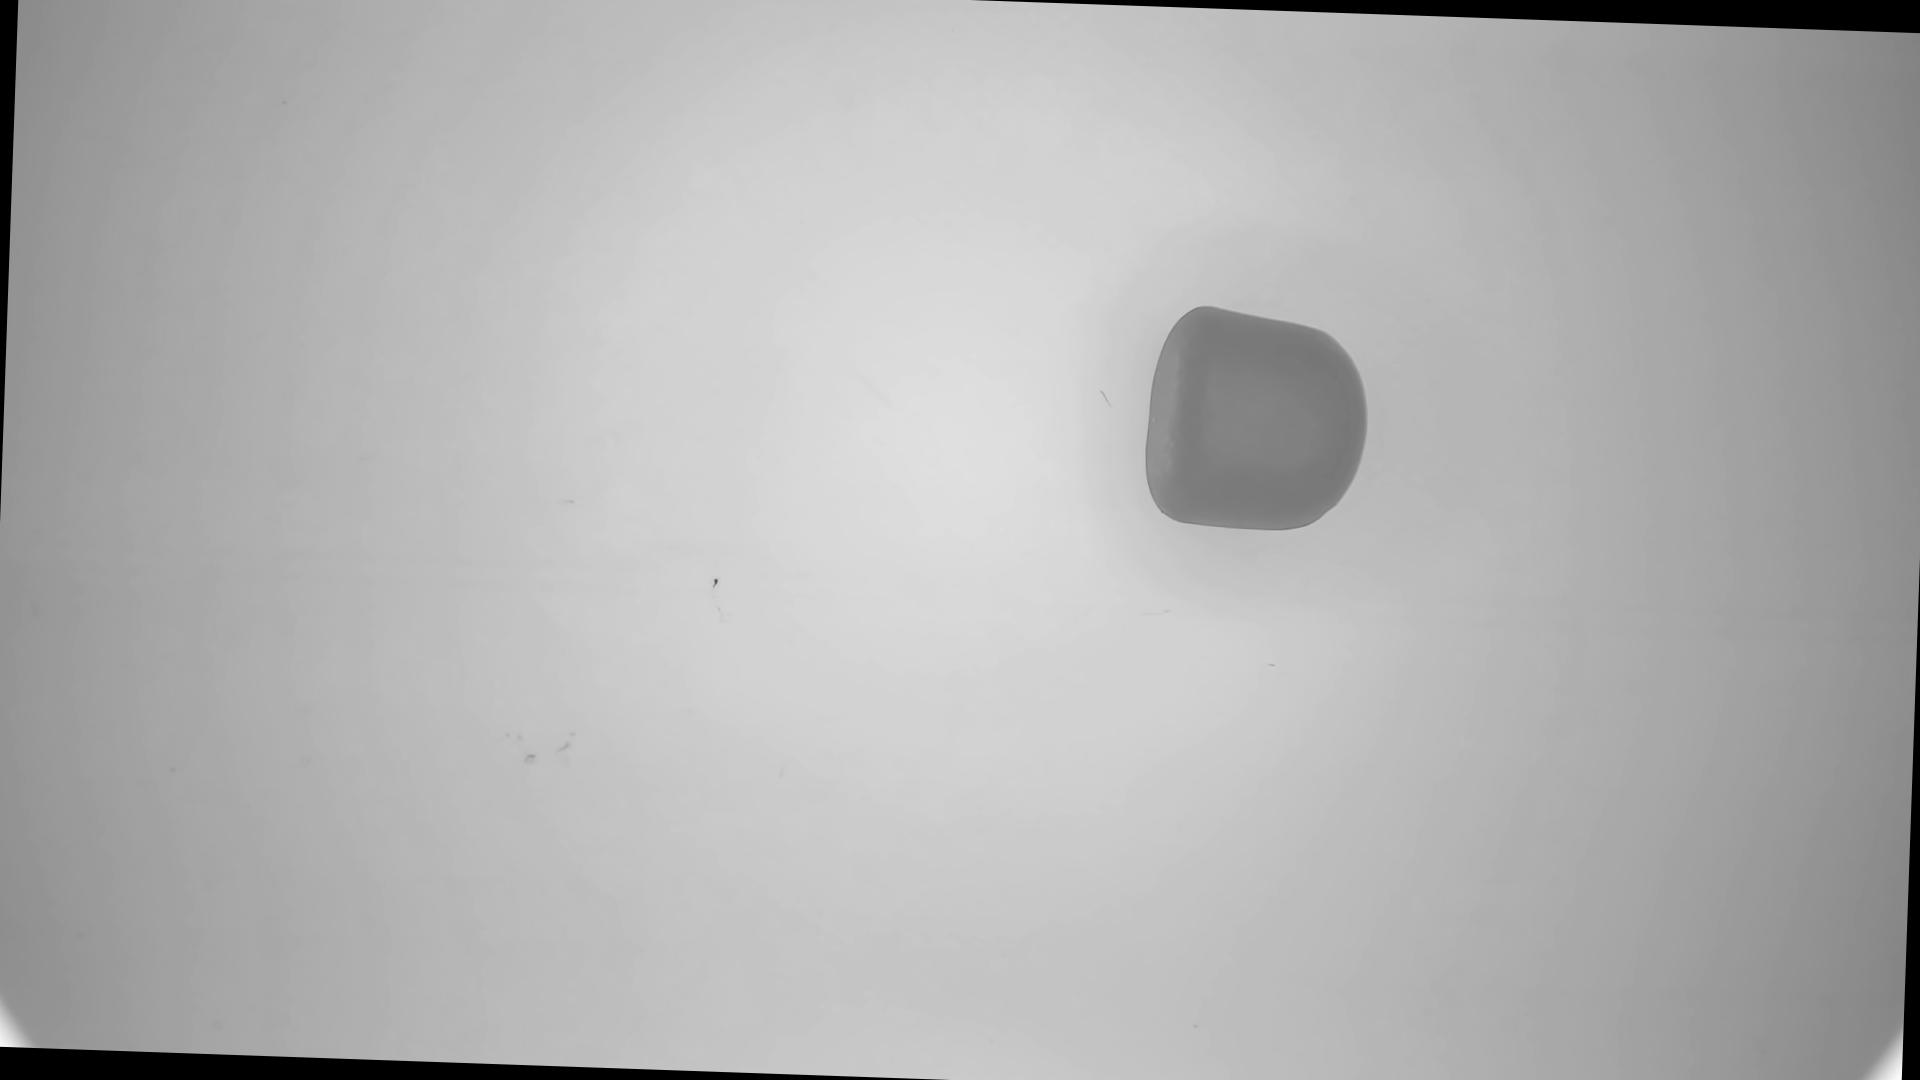normal: (1143, 303, 1374, 538)
